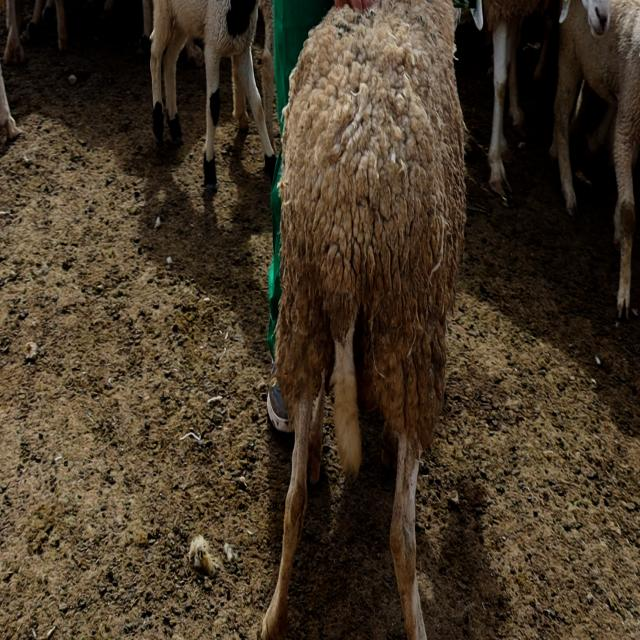Score_2: (260, 0, 466, 639)
